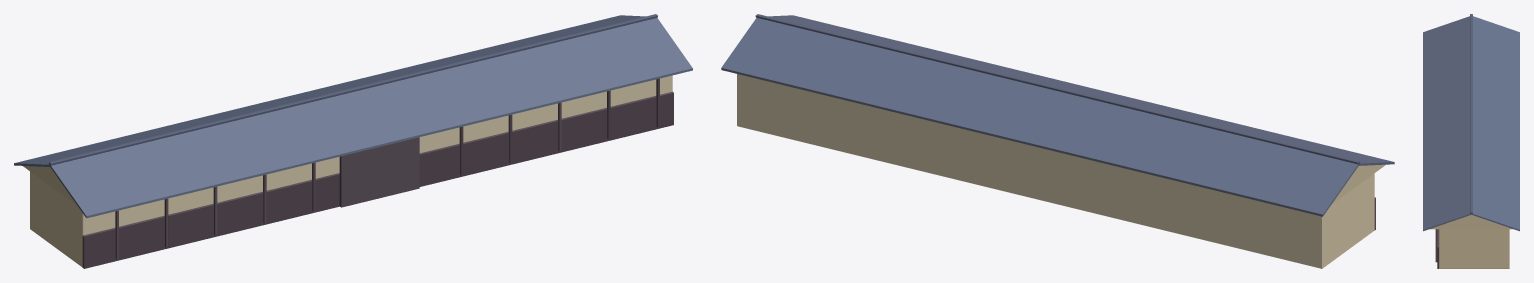
File: ART_NorthLonghouse.lod.glb
3 renders of one model, left to right at view 1: azimuth 30°, elevation 25°; view 2: azimuth 150°, elevation 25°; view 3: azimuth 270°, elevation 25°, orthographic. The views are drawn at different scales.
Parts seen in each view (by area): view 1: ART_NorthLonghouse; view 2: ART_NorthLonghouse; view 3: ART_NorthLonghouse.
Part boxes in pixels (x1,y1,x2,y2): ART_NorthLonghouse: (14,14,692,268); ART_NorthLonghouse: (721,14,1394,268); ART_NorthLonghouse: (1423,14,1519,268).
Bounding box in the file's own units: 37.08 × 5.24 × 7.65.
